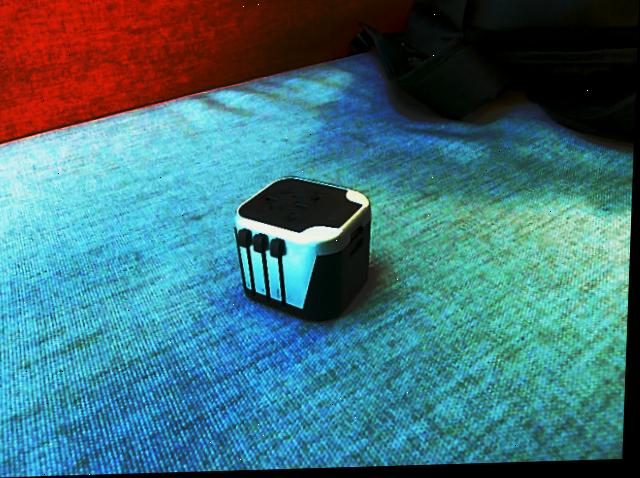adapter: (231, 177, 374, 327)
